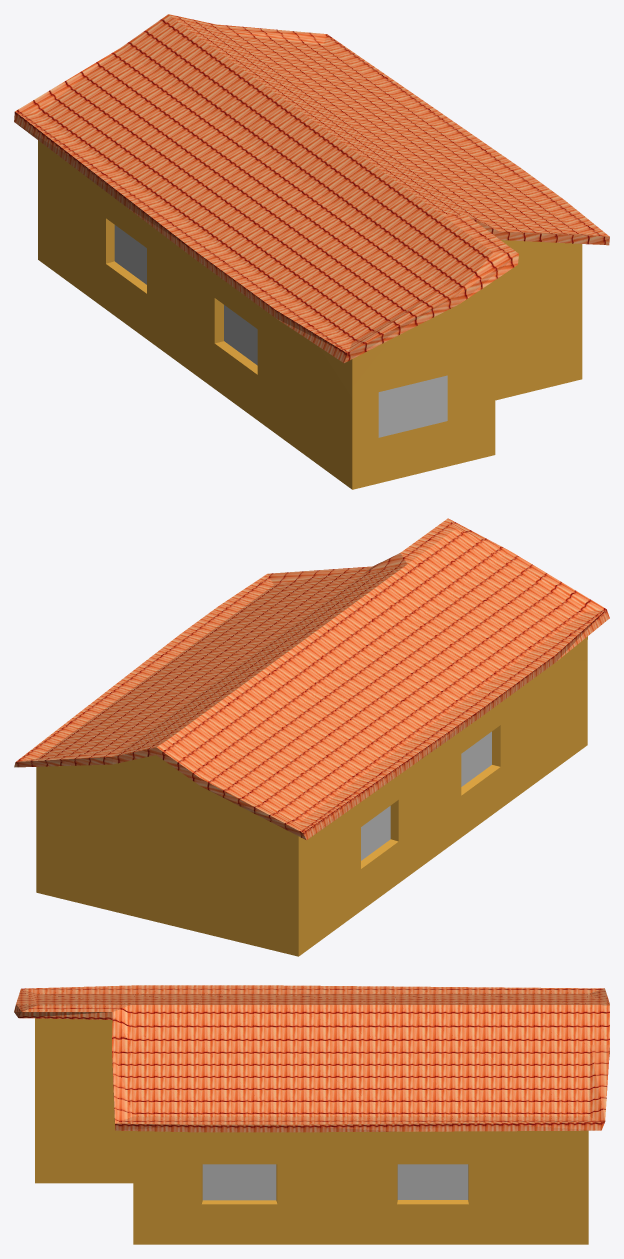
Rendered from Casa2.FBX.
3 renders of one model, top to bottom at view 1: azimuth 30°, elevation 25°; view 2: azimuth 150°, elevation 25°; view 3: azimuth 270°, elevation 25°, orthographic. The views are drawn at different scales.
Parts seen in each view (by area): view 1: CASA1; view 2: CASA1; view 3: CASA1.
Boxes of the visible parts, box(x1,y1,x2,y2) form: CASA1: box(14, 14, 609, 489); CASA1: box(14, 518, 609, 956); CASA1: box(14, 985, 609, 1244).
Bounding box in the file's own units: 404 × 238 × 722.
